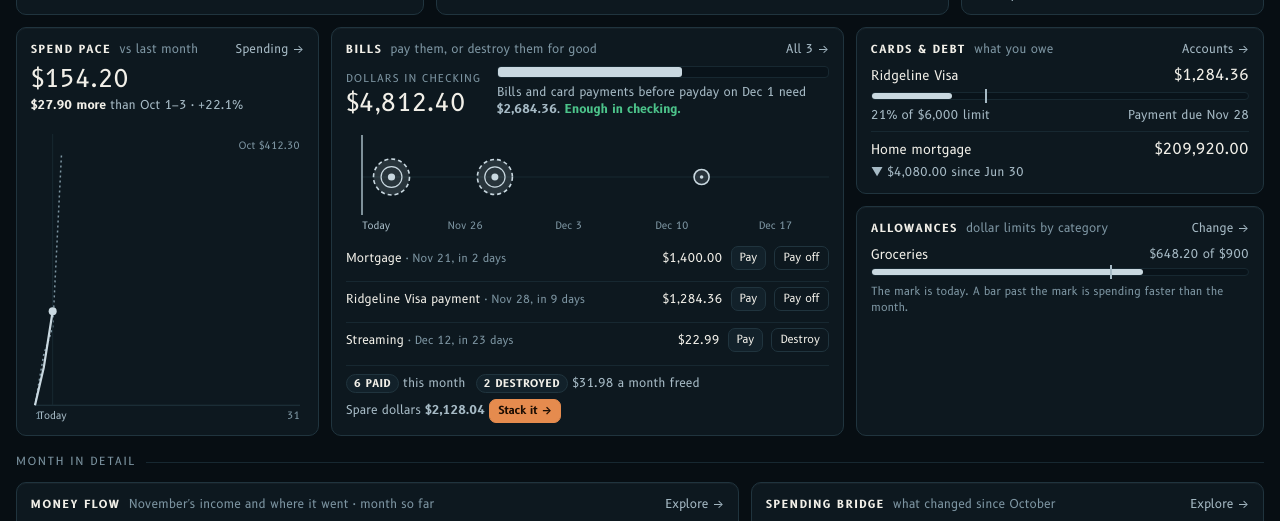
dashboard › destroys a bill for good and shows what that frees each year
Later steps or results of the test are not shown.
(page scrolled)
Click the button with aria-label "Destroy Streaming for good": (800, 340) top-left (771, 328), bottom-right (829, 352)
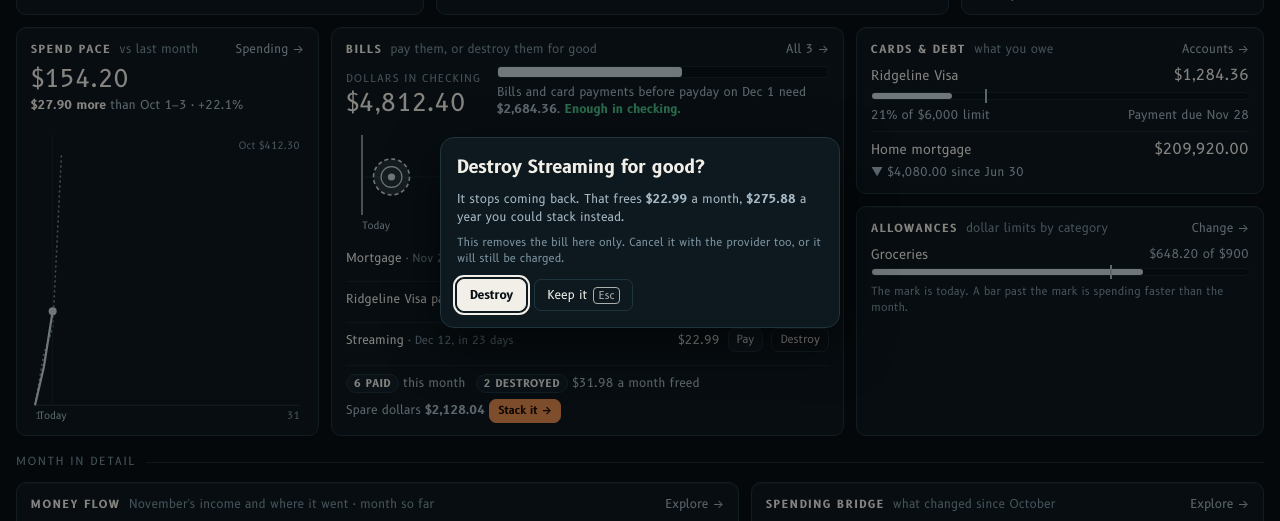
Now the text "$275.88" is shown, box top-left (746, 192), bottom-right (796, 206)
